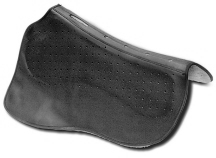saddle: (12, 11, 190, 137)
